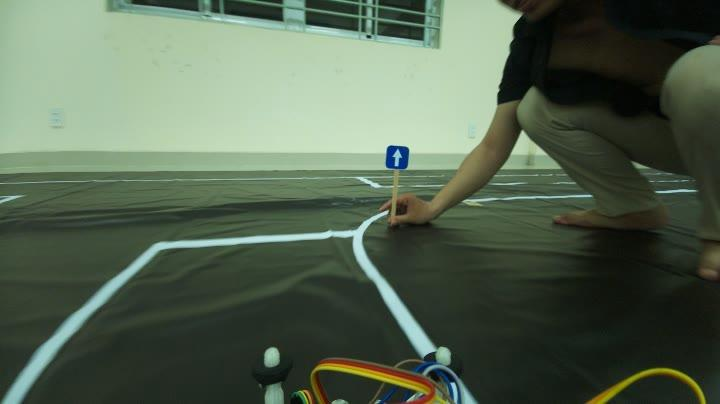onewayroad: (384, 141, 412, 172)
